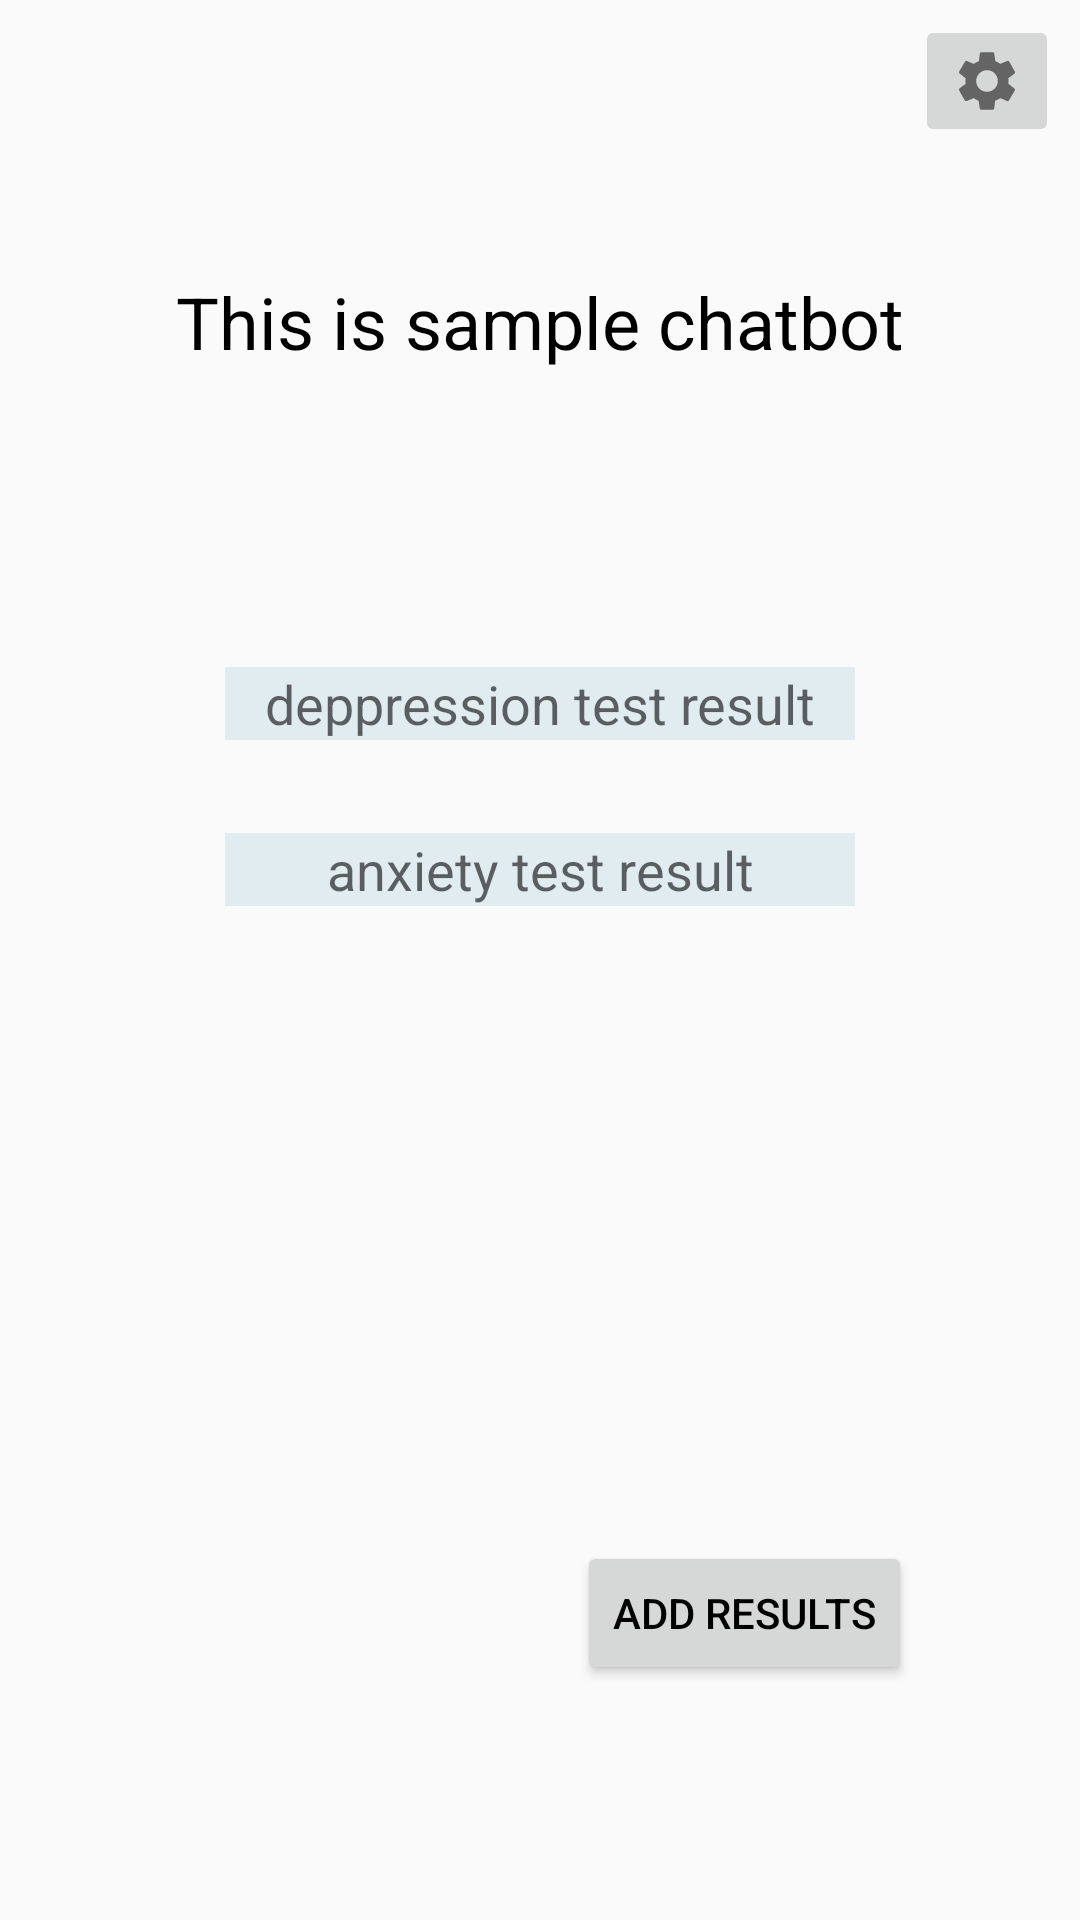

Screen size 1080x1920. Icon name, then its box in pixels as (x1, y1, x2, y2):
settings: (927, 33, 1047, 129)
